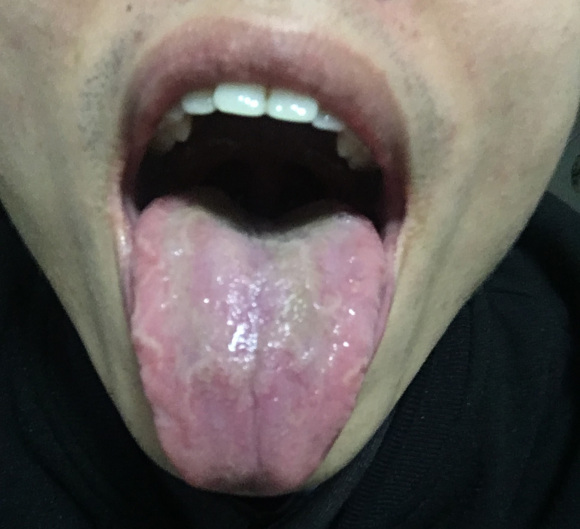botaishe: (166, 210, 320, 383)
huangtaishe: (133, 193, 390, 495)
shenquao: (174, 193, 341, 246)
